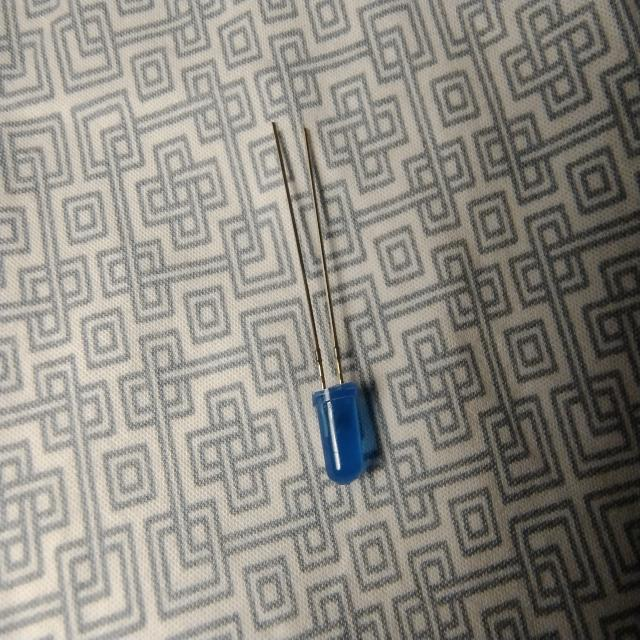blue_led: (311, 381, 366, 485)
